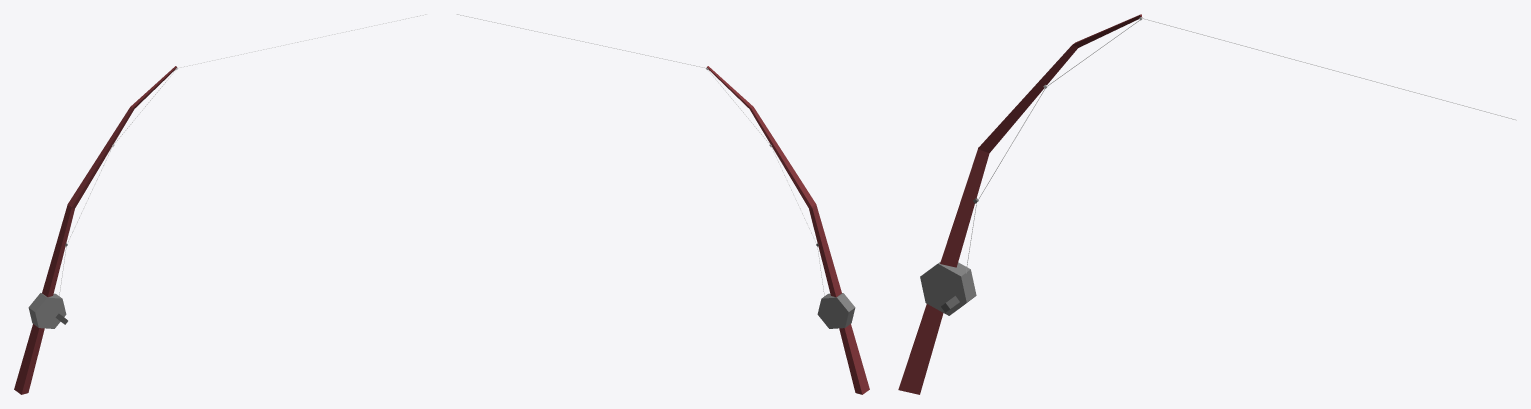
The model's file is Canna da pesca.fbx.
3 views of the same model, side by side, from view 1: azimuth 30°, elevation 25°; view 2: azimuth 150°, elevation 25°; view 3: azimuth 330°, elevation 25° (orthographic). The views are drawn at different scales.
Parts seen in each view (by area): view 1: Object.1, Object.2; view 2: Object.1, Object.2; view 3: Object.1, Object.2.
Part boxes in pixels (bbox=[...]): Object.1: bbox=[14, 66, 177, 394]; Object.2: bbox=[28, 293, 66, 328]; Object.1: bbox=[706, 66, 869, 394]; Object.2: bbox=[817, 293, 855, 328]; Object.1: bbox=[898, 14, 1142, 394]; Object.2: bbox=[920, 262, 976, 315].
Bounding box in the file's own units: 515 × 349 × 29.57.
